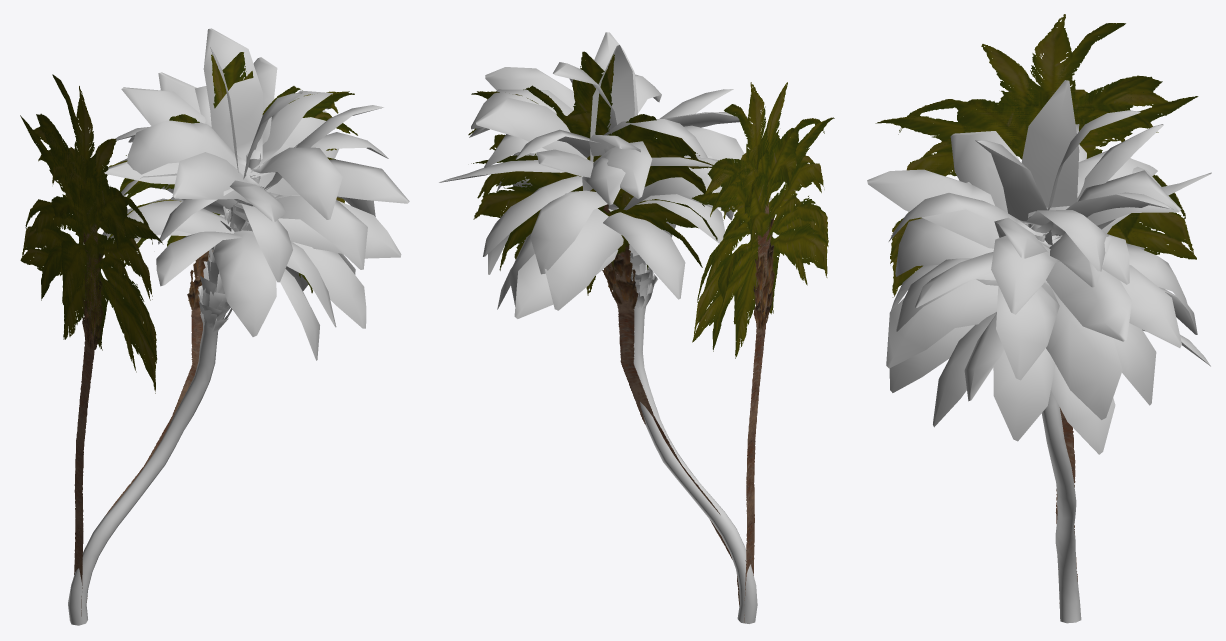
Rendered from Palm2.fbx.
The picture shows the model from 3 angles, left to right: view 1: azimuth 30°, elevation 25°; view 2: azimuth 150°, elevation 25°; view 3: azimuth 270°, elevation 25°; orthographic projection. The views are drawn at different scales.
Parts seen in each view (by area): view 1: LOD0, Billboard; view 2: LOD0, Billboard; view 3: LOD0, Billboard.
Part boxes in pixels (x1=…): LOD0: x1=68, y1=28, x2=409, y2=625; Billboard: x1=20, y1=52, x2=357, y2=616; LOD0: x1=439, y1=32, x2=772, y2=623; Billboard: x1=468, y1=51, x2=834, y2=622; LOD0: x1=867, y1=80, x2=1211, y2=623; Billboard: x1=875, y1=14, x2=1198, y2=603.
Size of what is drawn, in the model's own units: 523 by 921 by 470.
